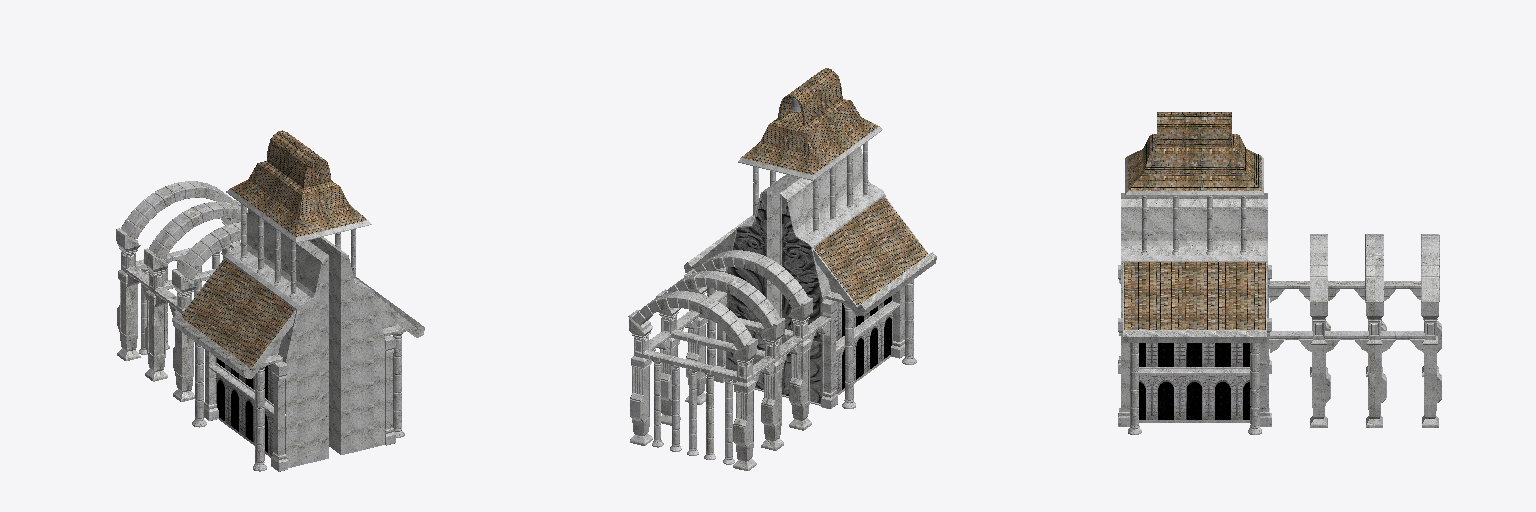
3 renders of one model, left to right at view 1: azimuth 30°, elevation 25°; view 2: azimuth 150°, elevation 25°; view 3: azimuth 270°, elevation 25°, orthographic.
Parts seen in each view (by area): view 1: Line002, Line005, Box023, ____004, Box007, Box004, ____002, Box012, Line003, Box019, Cylinder011, Box022 (+6 smaller); view 2: Box023, ____004, Line002, ____003, ____008, Box004, Box001, Box012, Box007, ____002, Line005, Line003 (+16 smaller); view 3: ____007, Line005, Box023, ____006, ____005, Line004, Box011, Box006, Box001, Cylinder013, Box022, Box020 (+6 smaller).
Part boxes in pixels (x1,y1,x2,y2): Line002: (209,209,328,467); Line005: (308,237,384,454); Box023: (230,130,366,237); ____004: (181,259,294,369); Box007: (144,248,167,381); Box004: (116,228,140,360); ____002: (216,374,273,455); Box012: (172,269,196,401); Line003: (172,258,295,378); Box019: (271,362,287,471); Cylinder011: (253,366,266,471); Box022: (385,335,395,445); Box023: (741,68,879,174); ____004: (814,197,927,306); Line002: (780,147,899,405); ____003: (782,197,821,403); ____008: (726,192,766,389); Box004: (733,338,757,470); Box001: (628,310,652,445); Box012: (789,297,812,430); Box007: (761,318,785,450); ____002: (836,311,892,393); Line005: (725,174,799,391); Line003: (813,196,936,316); ____007: (1124,262,1265,329); Line005: (1121,199,1267,422); Box023: (1128,112,1261,190); ____006: (1139,375,1250,419); ____005: (1139,343,1250,366); Line004: (1123,263,1266,342); Box011: (1310,300,1330,427); Box006: (1366,300,1386,427); Box001: (1421,300,1441,427); Cylinder013: (1248,343,1261,434); Box022: (1118,318,1129,426); Box020: (1260,318,1271,426).
Size of the model in its own units: 153 by 231 by 238.
5 materials, 4 textured.